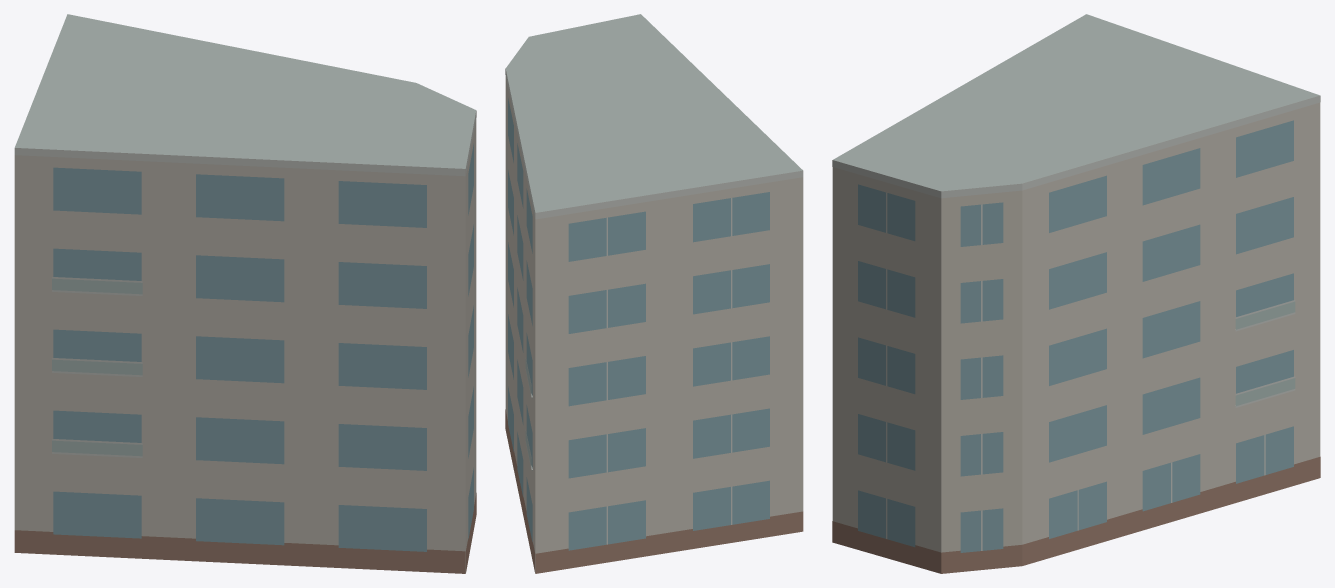
File: survey-upis-32962633.glb
3 views of the same model, side by side, from view 1: azimuth 30°, elevation 25°; view 2: azimuth 150°, elevation 25°; view 3: azimuth 270°, elevation 25° (orthographic). The views are drawn at different scales.
Visible parts, largest first — view 1: survey-upis-32962633.tmp; view 2: survey-upis-32962633.tmp; view 3: survey-upis-32962633.tmp.
Boxes of the visible parts, x1,y1,x2,y2 form: survey-upis-32962633.tmp: [14, 14, 476, 573]; survey-upis-32962633.tmp: [505, 14, 803, 573]; survey-upis-32962633.tmp: [832, 14, 1320, 573].
Bounding box in the file's own units: 13.44 × 13.5 × 15.62.
